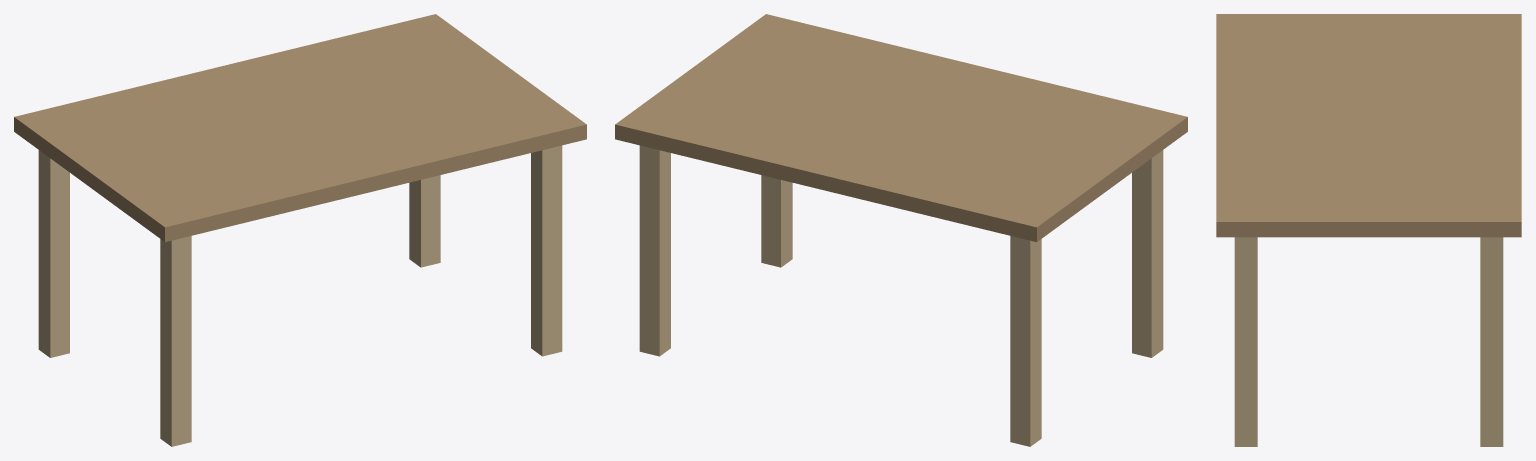
File: mdl_furniture_table_wood_001.glb
3 views of the same model, side by side, from view 1: azimuth 30°, elevation 25°; view 2: azimuth 150°, elevation 25°; view 3: azimuth 270°, elevation 25° (orthographic).
Visible parts, largest first — view 1: m_madera, m_madera_clara; view 2: m_madera, m_madera_clara; view 3: m_madera, m_madera_clara.
Part boxes in pixels (x1,y1,x2,y2): m_madera: (14, 14, 586, 242); m_madera_clara: (38, 145, 562, 446); m_madera: (615, 14, 1187, 242); m_madera_clara: (639, 145, 1163, 446); m_madera: (1216, 14, 1521, 237); m_madera_clara: (1234, 237, 1503, 446).
Size of the model in its own units: 1.48 by 0.7731 by 0.9199.
